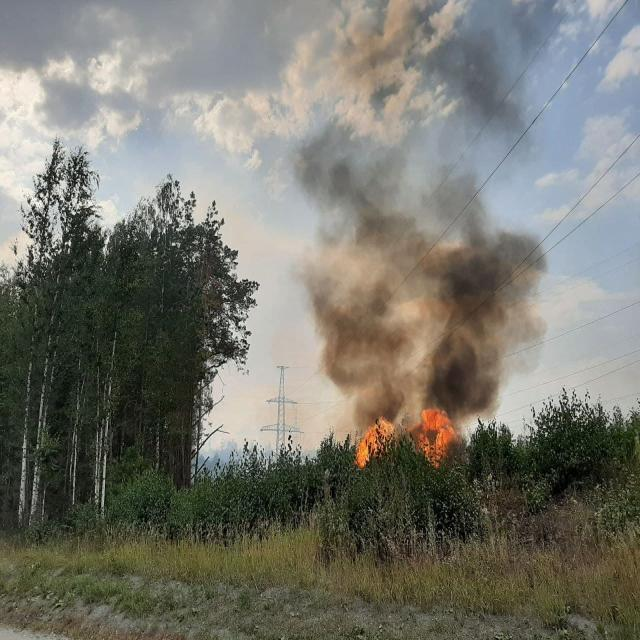Fire: (413, 406, 458, 467), (354, 418, 396, 468)
Smoke: (296, 0, 548, 410)
